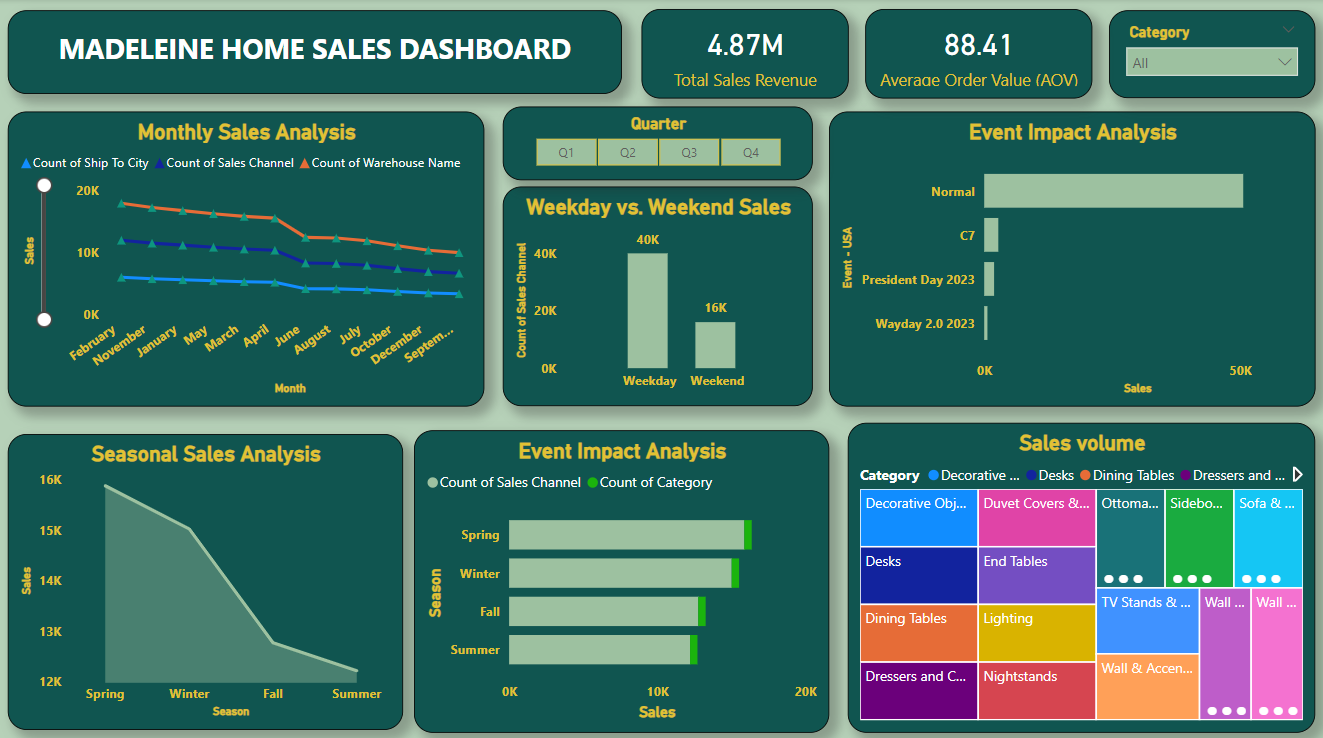

Layout of this report page (visuals, bound fields, positions):
{"tool":"powerbi","page":{"name":"Page 1","canvas":[1280,720],"ordinal":0},"visuals":[{"type":"textbox","box":[7.9,11.1,559.9,81],"z":0},{"type":"lineChart","title":"Monthly Sales Analysis","fields":{"Y":["CountNonNull(Raw Sales.Ship To City)","CountNonNull(Raw Sales.Sales Channel)","CountNonNull(Raw Sales.Warehouse Name)"],"Category":["Date Calendar.Month"]},"box":[8.4,108.8,459.7,284.7],"z":1000},{"type":"columnChart","title":"Weekday vs. Weekend Sales","fields":{"Category":["Date Calendar.Status"],"Y":["CountNonNull(Raw Sales.Sales Channel)"]},"box":[480.2,108.6,299.2,284.7],"z":2000},{"type":"clusteredBarChart","title":"Event Impact Analysis","fields":{"Category":["Date Calendar.Event - USA"],"Y":["CountNonNull(Raw Sales.Sales Channel)"]},"box":[801.1,108.8,469.3,284.7],"z":3000},{"type":"lineChart","title":"Seasonal Sales Analysis","fields":{"Y":["CountNonNull(Raw Sales.Sales Channel)"],"Category":["Date Calendar.Season"]},"box":[8.4,419.8,381.2,285.9],"z":4000},{"type":"barChart","title":"Event Impact Analysis","fields":{"Category":["Date Calendar.Season"],"Y":["CountNonNull(Raw Sales.Sales Channel)","CountNonNull(SKU Details.Category)"]},"box":[400.7,415.8,400.7,292.3],"z":5000},{"type":"treemap","title":"Sales volume","fields":{"Group":["SKU Details.Category"],"Values":["CountNonNull(Date Calendar.Season)"]},"box":[819.2,409,451.2,299.2],"z":6000},{"type":"slicer","fields":{"Values":["SKU Details.Category"]},"box":[1071.3,11.1,199,85.1],"z":7000},{"type":"card","fields":{"Values":["Date Calendar.Total Sales Revenue"]},"box":[582.8,9.7,218.2,86.4],"z":8000},{"type":"card","fields":{"Values":["Date Calendar.Average Order Value (AOV)"]},"box":[818.8,10.9,236.5,85.7],"z":9000}]}

Visuals, with their boxes in screenshot pixels (x1, y1, x2, y2), scaled from the page's 1280x720 canvas onto the 1323x738 screenshot:
textbox: rect(8, 11, 587, 94)
"Monthly Sales Analysis" lineChart: rect(9, 112, 484, 403)
"Weekday vs. Weekend Sales" columnChart: rect(496, 111, 806, 403)
"Event Impact Analysis" clusteredBarChart: rect(828, 112, 1313, 403)
"Seasonal Sales Analysis" lineChart: rect(9, 430, 403, 723)
"Event Impact Analysis" barChart: rect(414, 426, 828, 726)
"Sales volume" treemap: rect(847, 419, 1313, 726)
slicer - SKU Details.Category: rect(1107, 11, 1313, 99)
card - Date Calendar.Total Sales Revenue: rect(602, 10, 828, 99)
card - Date Calendar.Average Order Value (AOV): rect(846, 11, 1091, 99)
